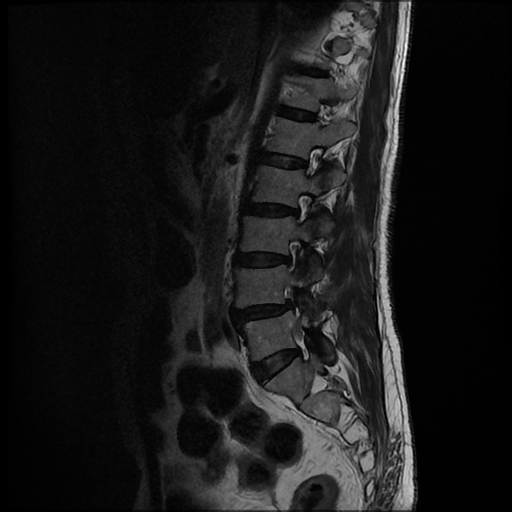RFS0: (295, 136, 325, 181), (288, 183, 315, 227)
RFS1: (275, 228, 310, 276)
